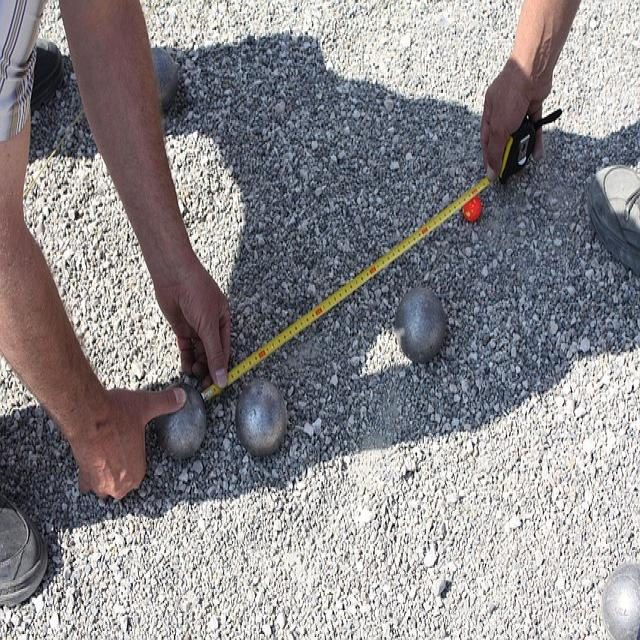hatball: (462, 196, 483, 224)
petanque: (389, 282, 452, 375), (153, 381, 213, 468), (233, 373, 290, 458)
